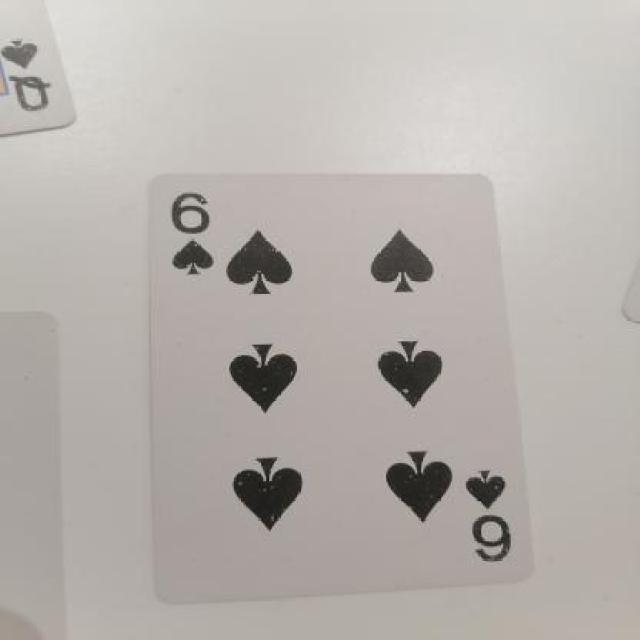6S: (451, 459, 522, 567), (165, 192, 240, 292)
